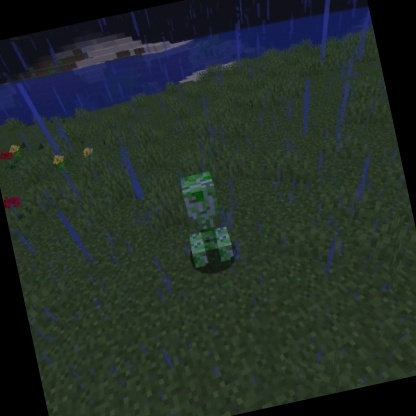creeper: (171, 166, 241, 274)
